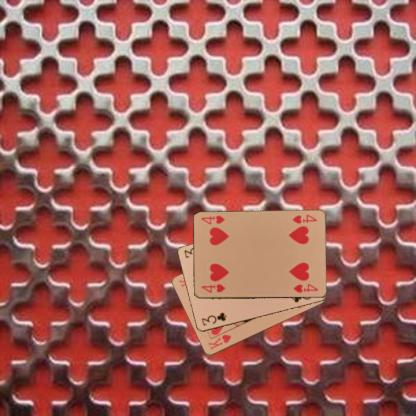3c: (198, 310, 228, 327)
4h: (289, 212, 318, 225), (199, 282, 226, 294)
Kh: (205, 332, 232, 352)
